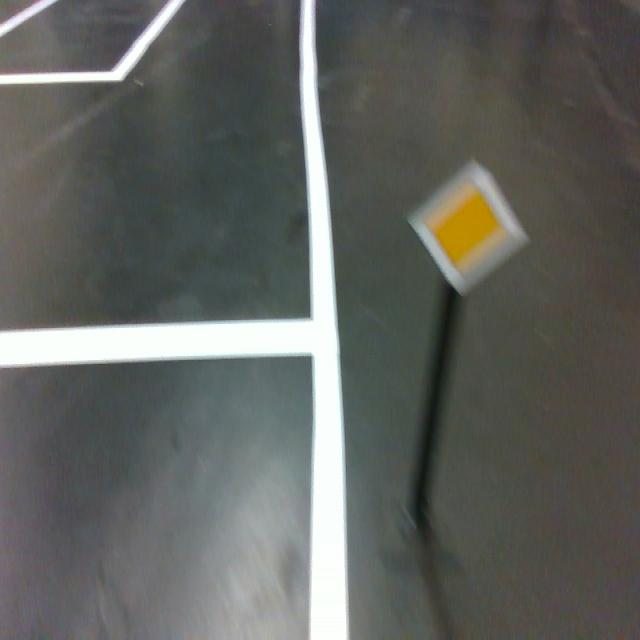priority-sign: (405, 156, 531, 299)
